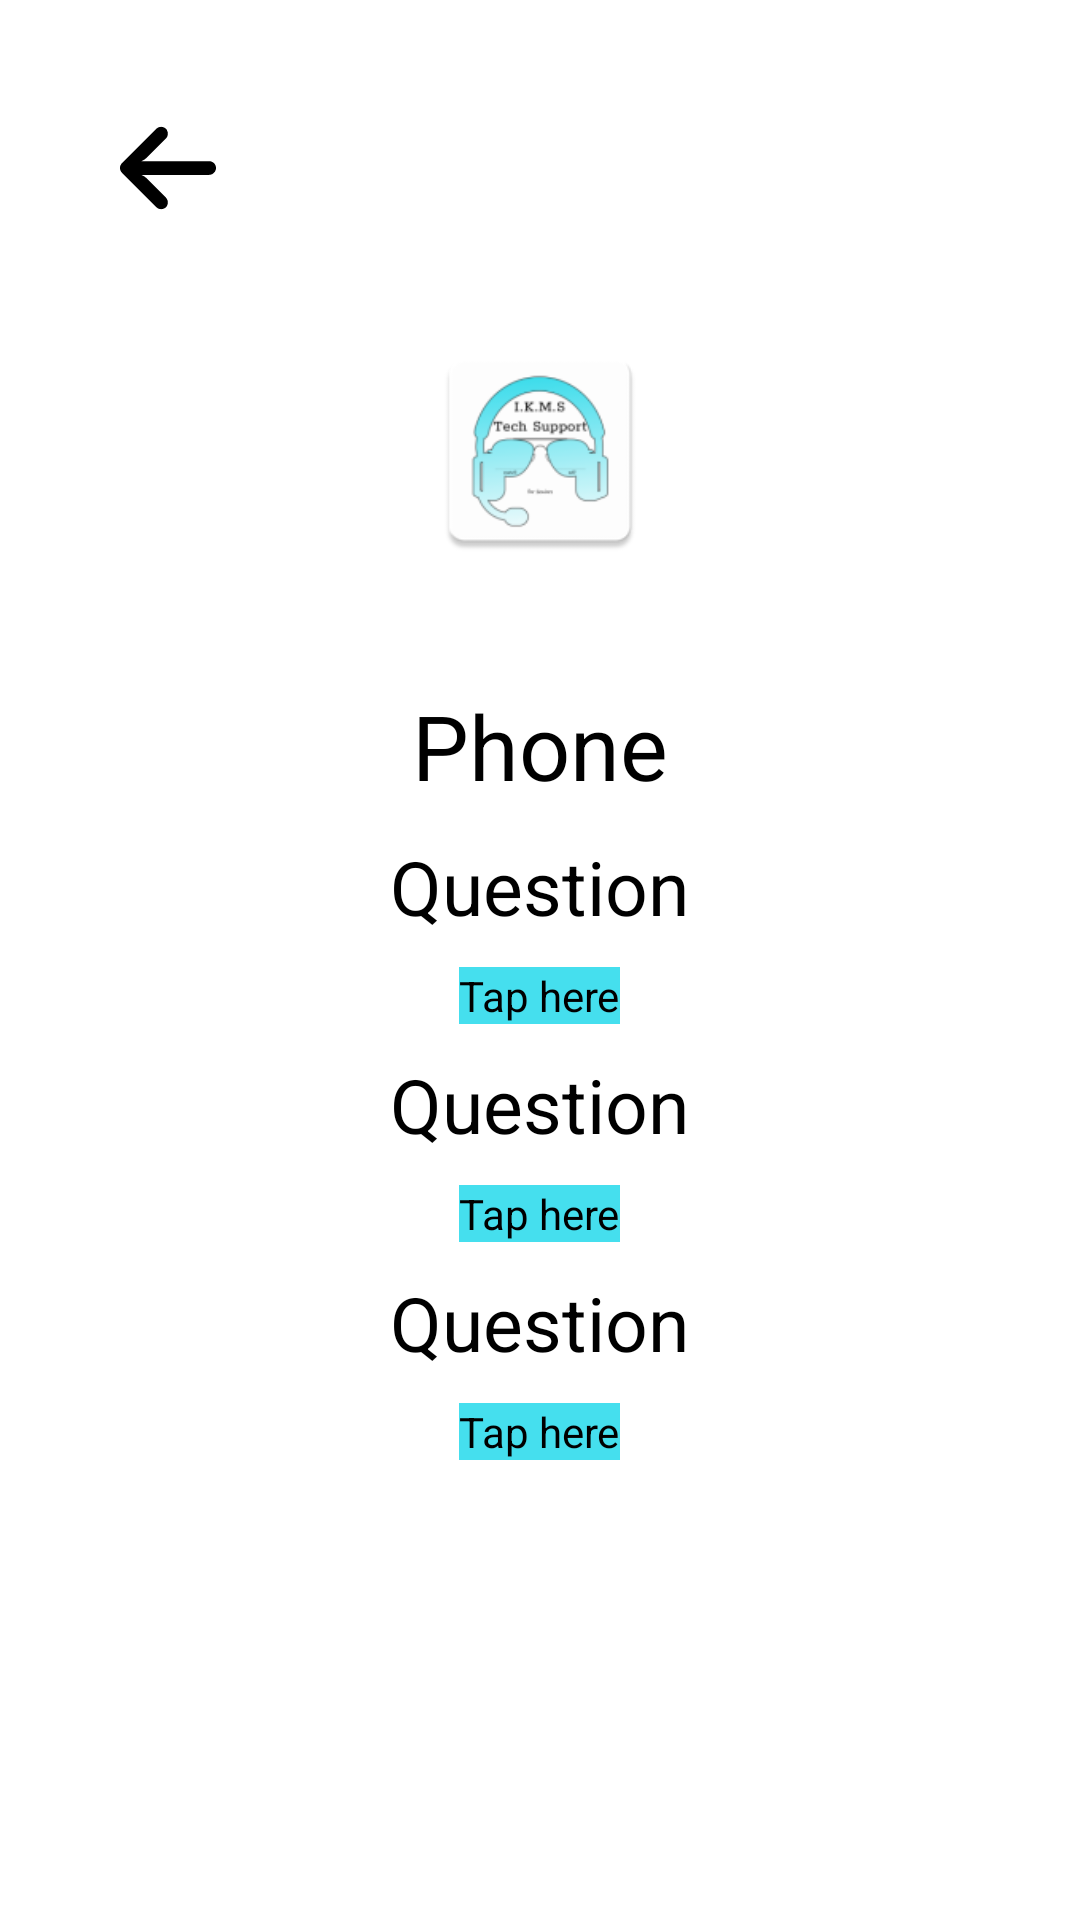

Locate icon controls on the screen. Image size 1080×1920, boxes as BBox(x1, y1, x2, y2).
arrow: BBox(120, 126, 216, 210)
